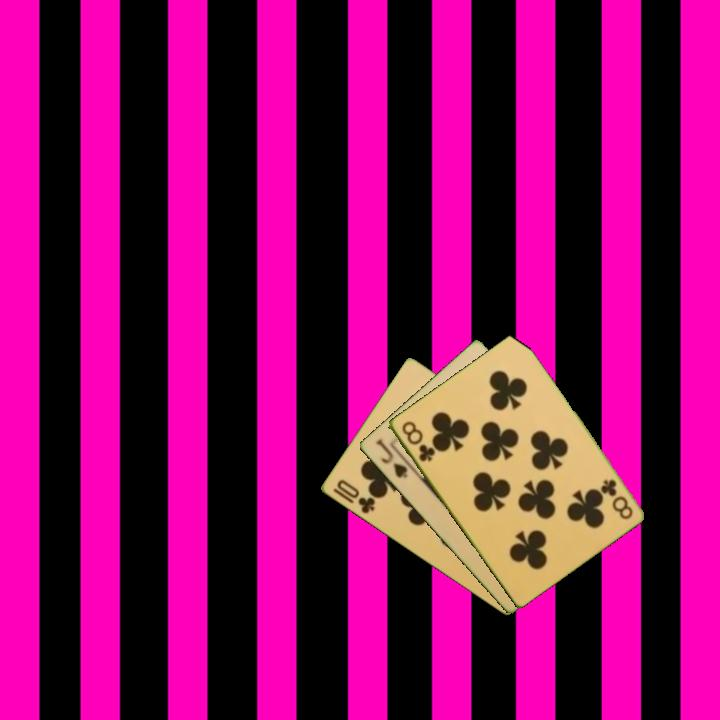10c: (333, 476, 378, 517)
8c: (398, 417, 438, 465), (597, 475, 636, 522)
Js: (371, 435, 410, 481)
